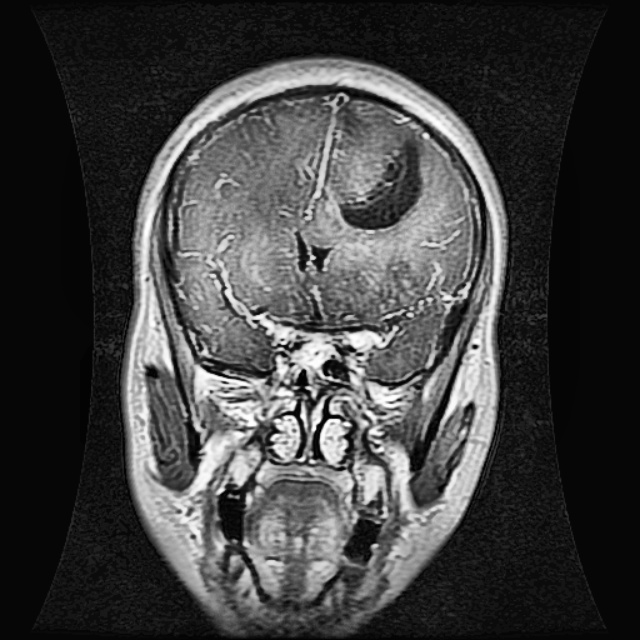Meningioma: (333, 128, 425, 230)
